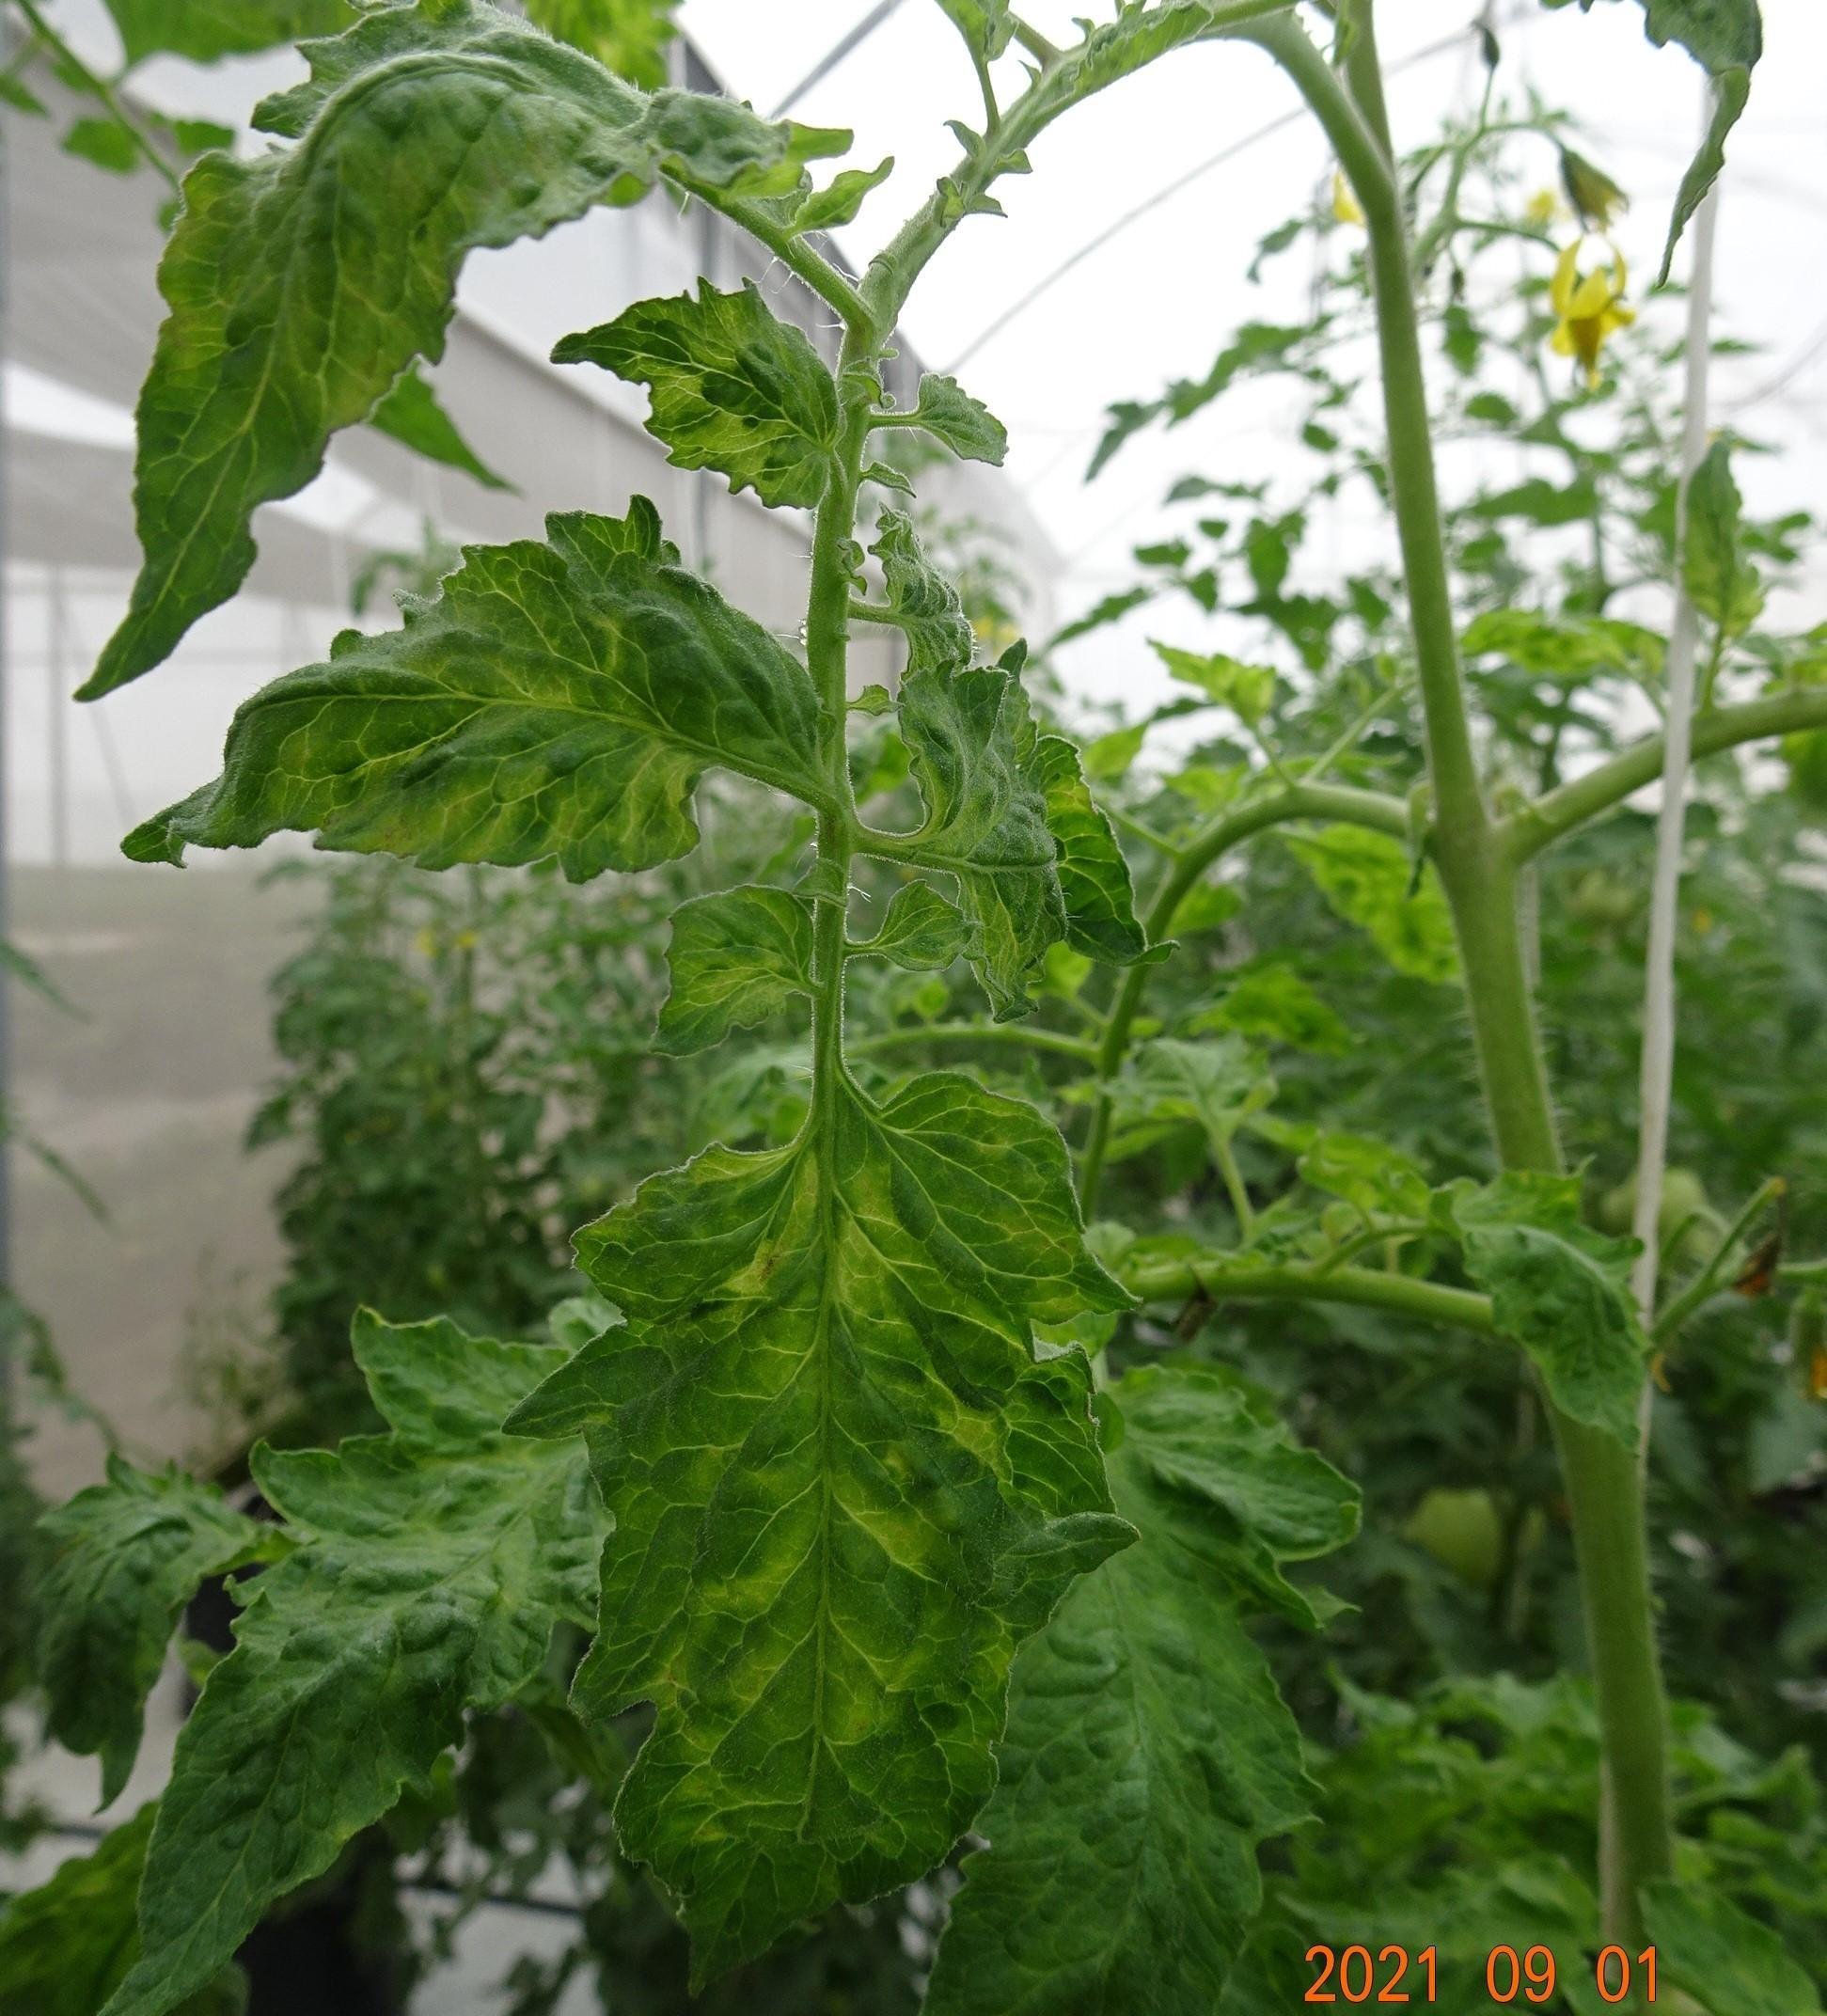Hoja rugoso: (531, 1031, 1110, 2000), (83, 0, 834, 697), (126, 500, 827, 882), (555, 279, 838, 508)
Pedunculo: (1230, 2, 1563, 1170), (740, 125, 1029, 1038), (1548, 1405, 1669, 1940)
